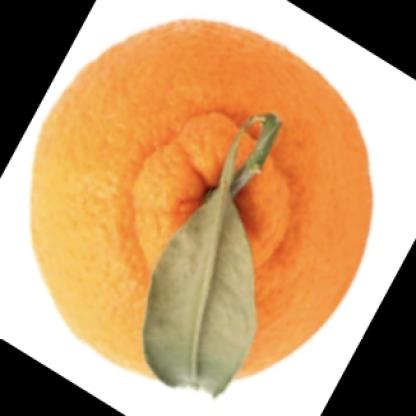fresh: (31, 19, 372, 389)
